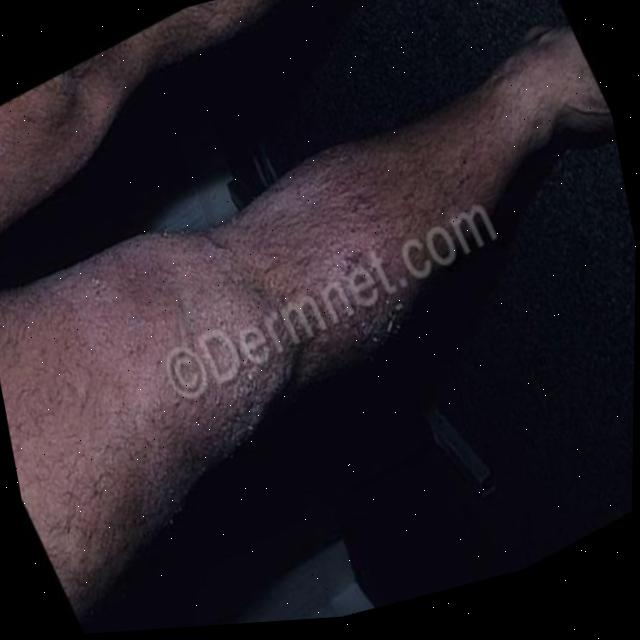Eczema: (0, 66, 633, 618)
